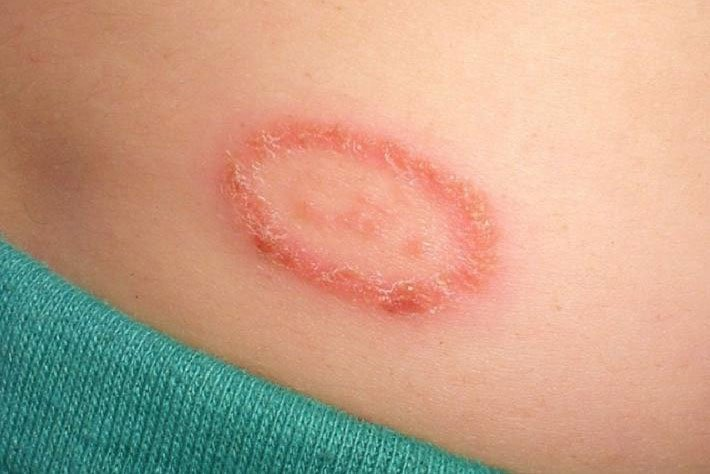Ringworm: (214, 98, 509, 330)
